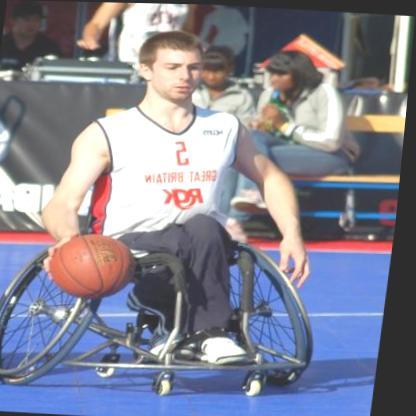basketball: (53, 231, 139, 300)
